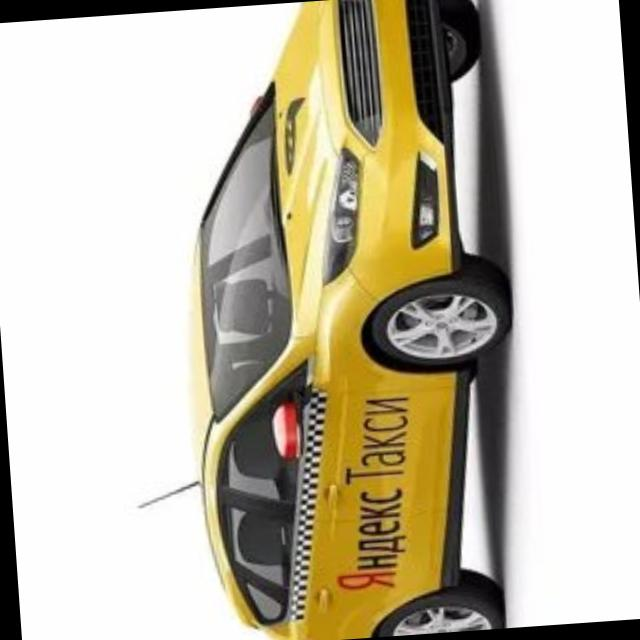taxi: (104, 1, 534, 640)
